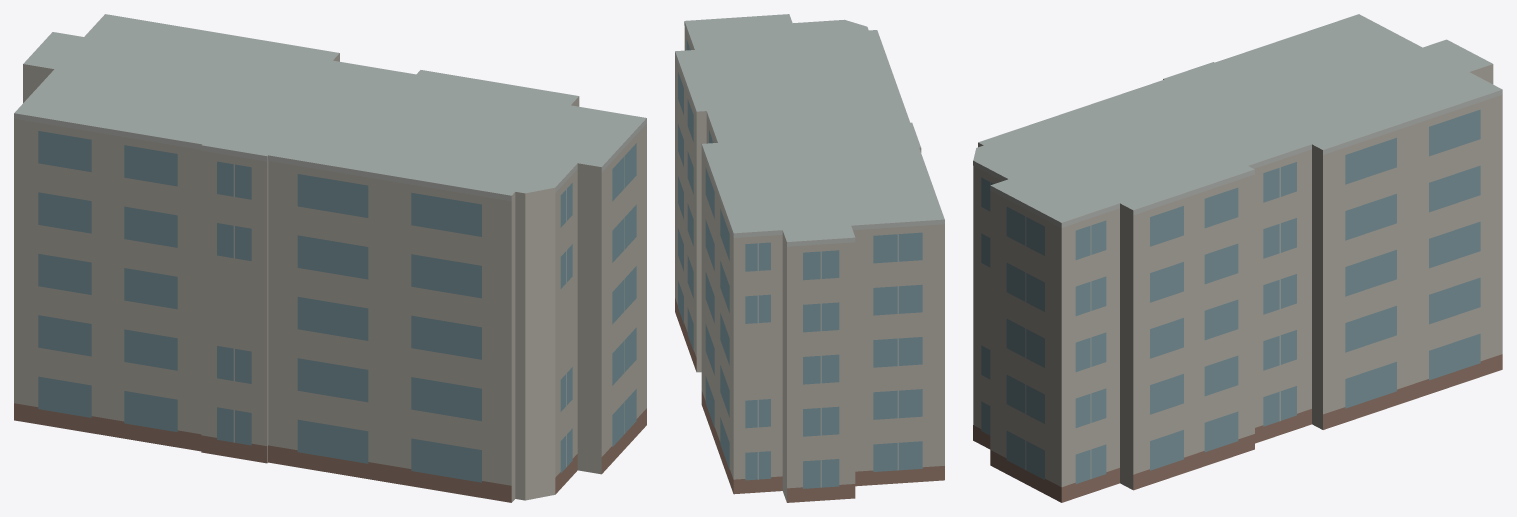
The model's file is survey-upis-33014710.glb.
3 renders of one model, left to right at view 1: azimuth 30°, elevation 25°; view 2: azimuth 150°, elevation 25°; view 3: azimuth 270°, elevation 25°, orthographic. The views are drawn at different scales.
Parts seen in each view (by area): view 1: survey-upis-33014710.tmp; view 2: survey-upis-33014710.tmp; view 3: survey-upis-33014710.tmp.
Boxes of the visible parts, x1,y1,x2,y2 form: survey-upis-33014710.tmp: (14, 14, 646, 502); survey-upis-33014710.tmp: (675, 14, 944, 502); survey-upis-33014710.tmp: (973, 14, 1502, 502).
Bounding box in the file's own units: 21.93 × 13.7 × 23.49.
